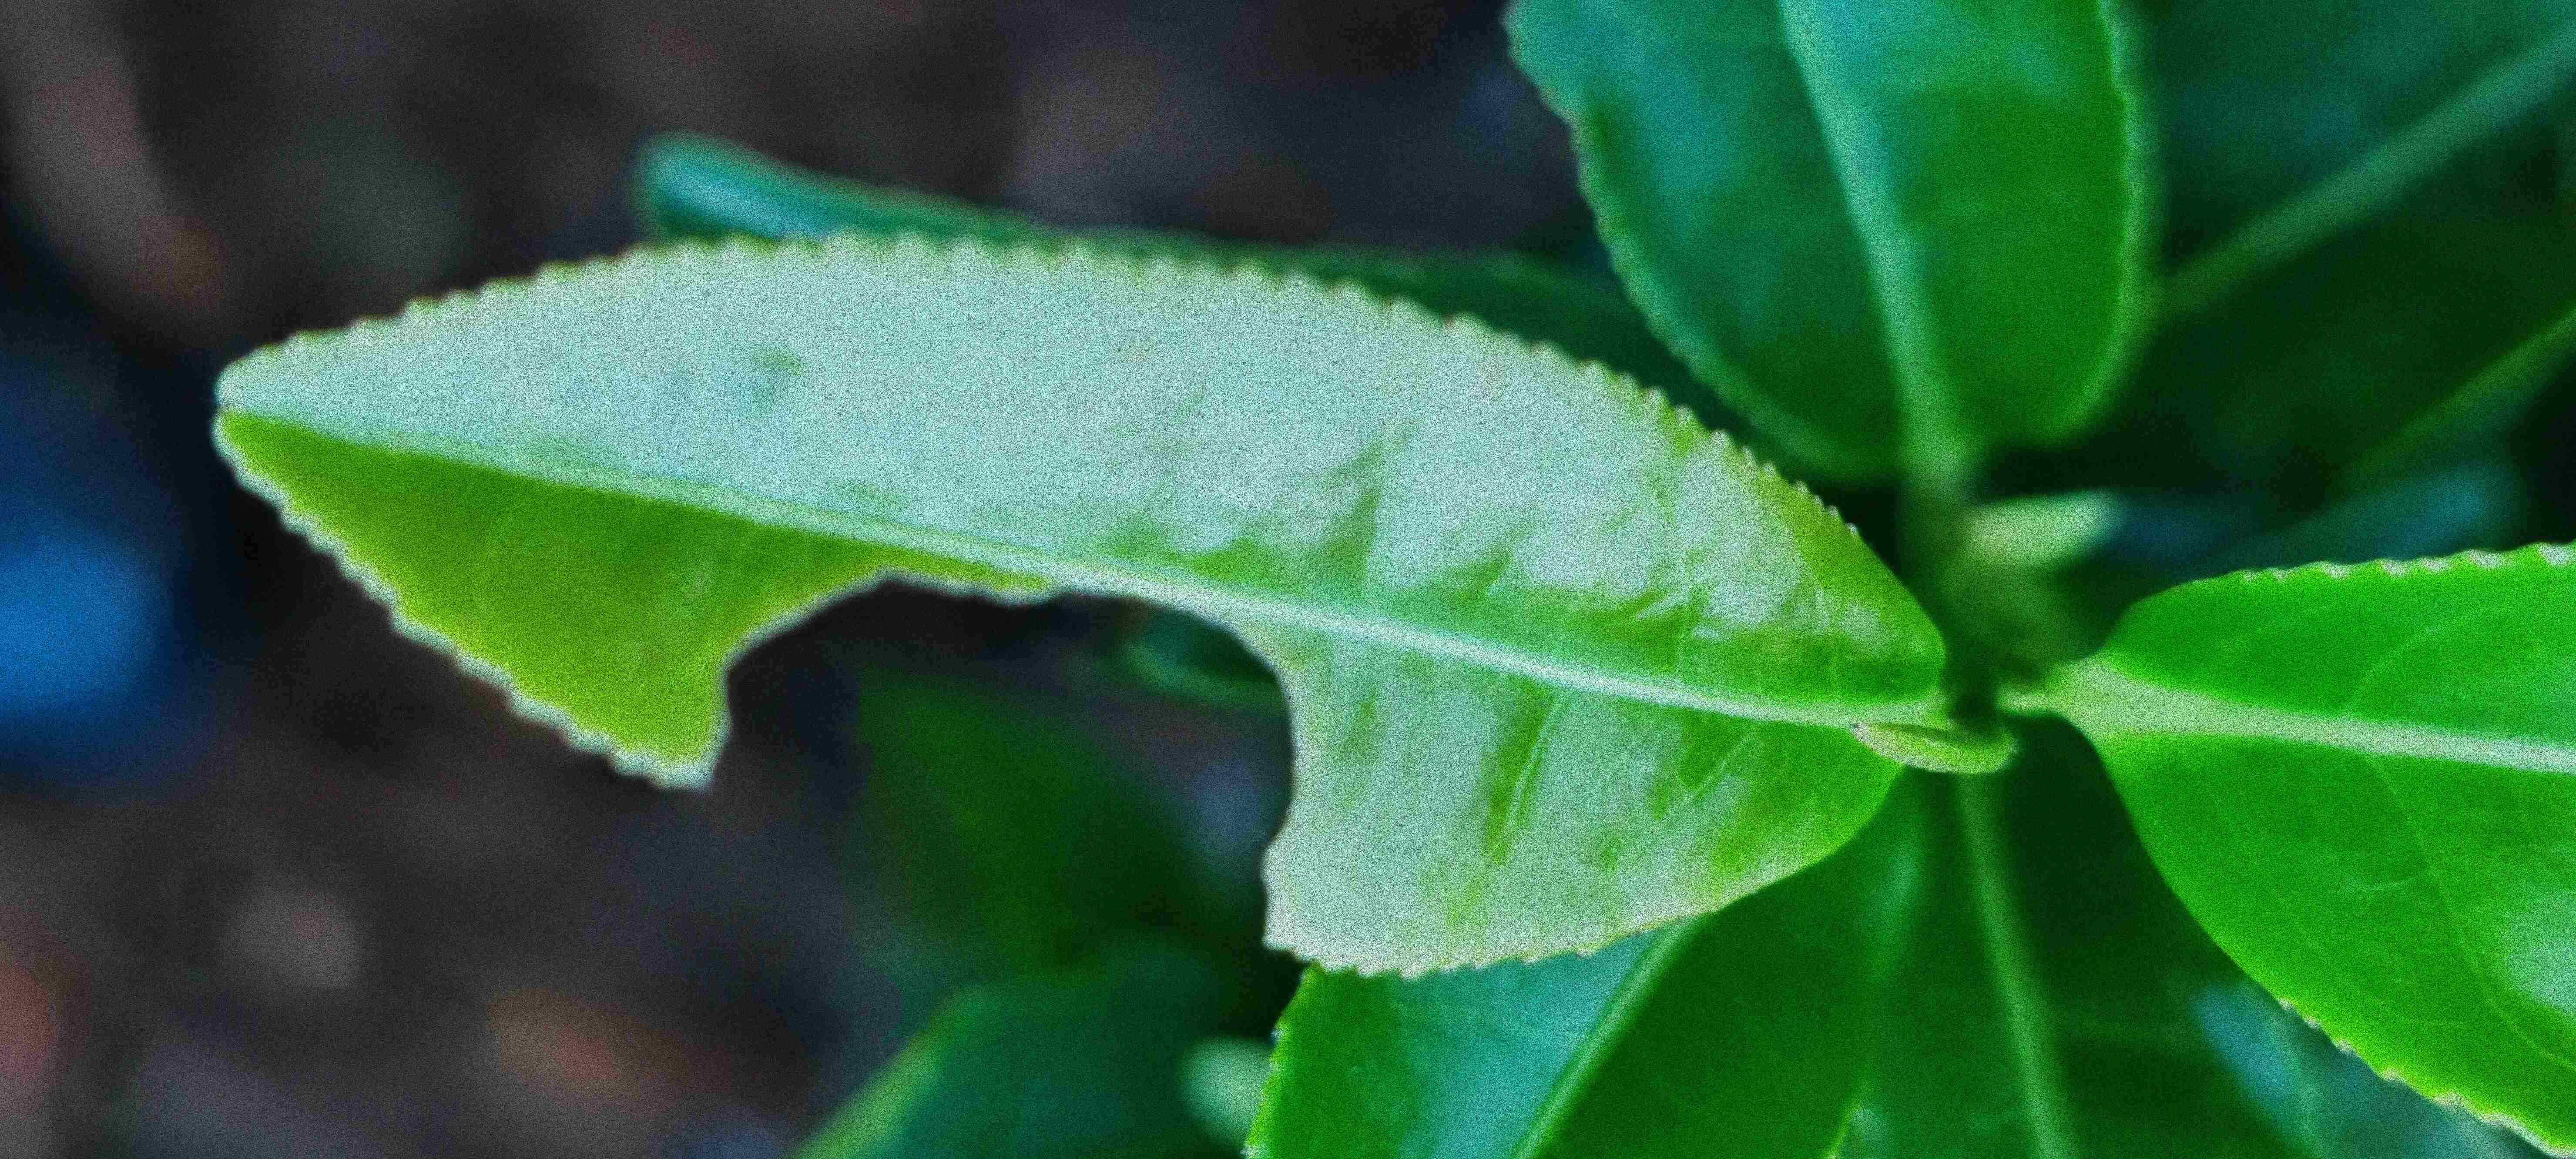chihuo_low: (212, 222, 1955, 980)
healthy: (1495, 7, 2157, 484), (2067, 534, 2576, 1154)
